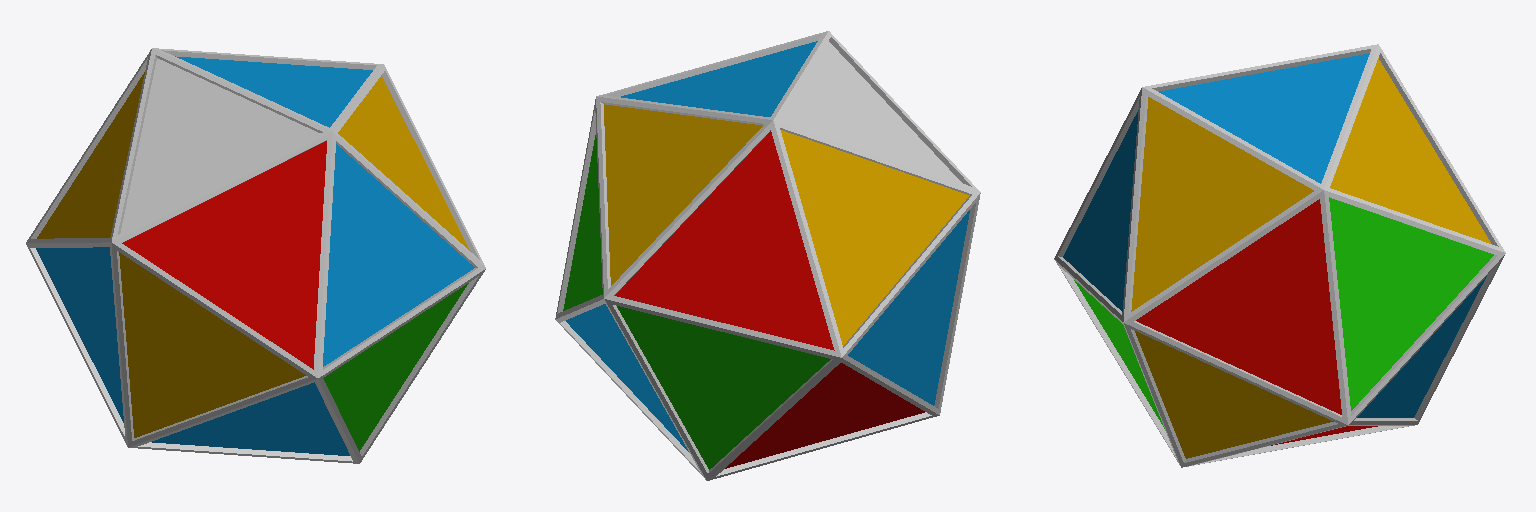
The model's file is kostka_fakescreen_01.obj.
3 views of the same model, side by side, from view 1: azimuth 30°, elevation 25°; view 2: azimuth 150°, elevation 25°; view 3: azimuth 270°, elevation 25° (orthographic).
Visible parts, largest first — view 1: Icosphere; view 2: Icosphere; view 3: Icosphere.
Boxes of the visible parts, <box> form: Icosphere: <box>26,48,485,463</box>; Icosphere: <box>555,31,980,480</box>; Icosphere: <box>1054,44,1505,467</box>.
Size of the model in its own units: 2.92 by 2.89 by 3.2.